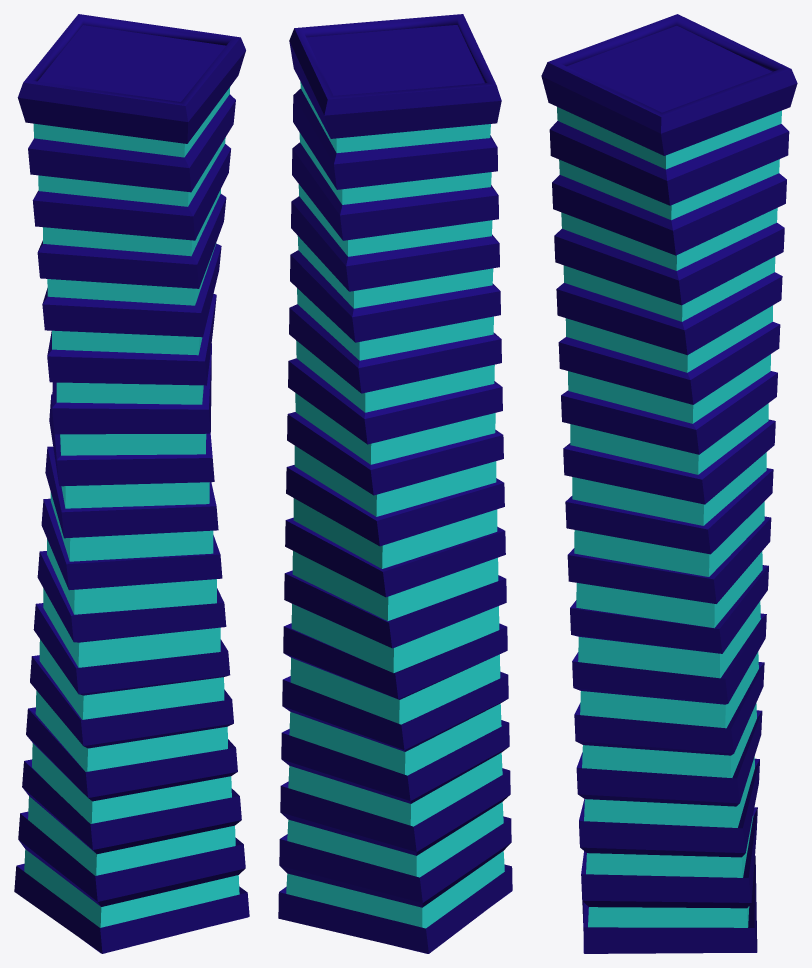
File: FuturisticBuild.fbx
The picture shows the model from 3 angles, left to right: view 1: azimuth 30°, elevation 25°; view 2: azimuth 150°, elevation 25°; view 3: azimuth 270°, elevation 25°; orthographic projection.
Visible parts, largest first — view 1: Cube; view 2: Cube; view 3: Cube.
Part boxes in pixels (x1,y1,x2,y2): Cube: (14,14,249,953); Cube: (278,14,512,953); Cube: (541,14,797,953).
Bounding box in the file's own units: 645 × 2364 × 645.
